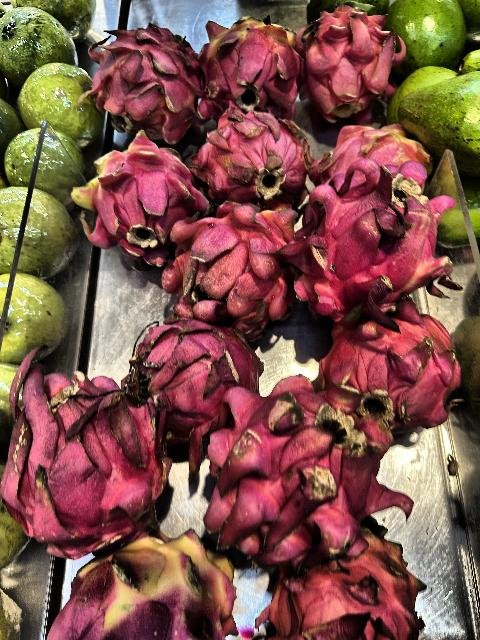buah-naga-belum-matang: (22, 534, 256, 640), (298, 184, 458, 312), (144, 209, 306, 327), (69, 142, 205, 246), (193, 19, 300, 109), (310, 115, 438, 189)
buah-naga-matang: (184, 368, 422, 544), (6, 342, 184, 546), (310, 307, 478, 437), (104, 310, 270, 438), (257, 532, 431, 640), (86, 21, 204, 138), (189, 109, 317, 210), (299, 7, 401, 121)
